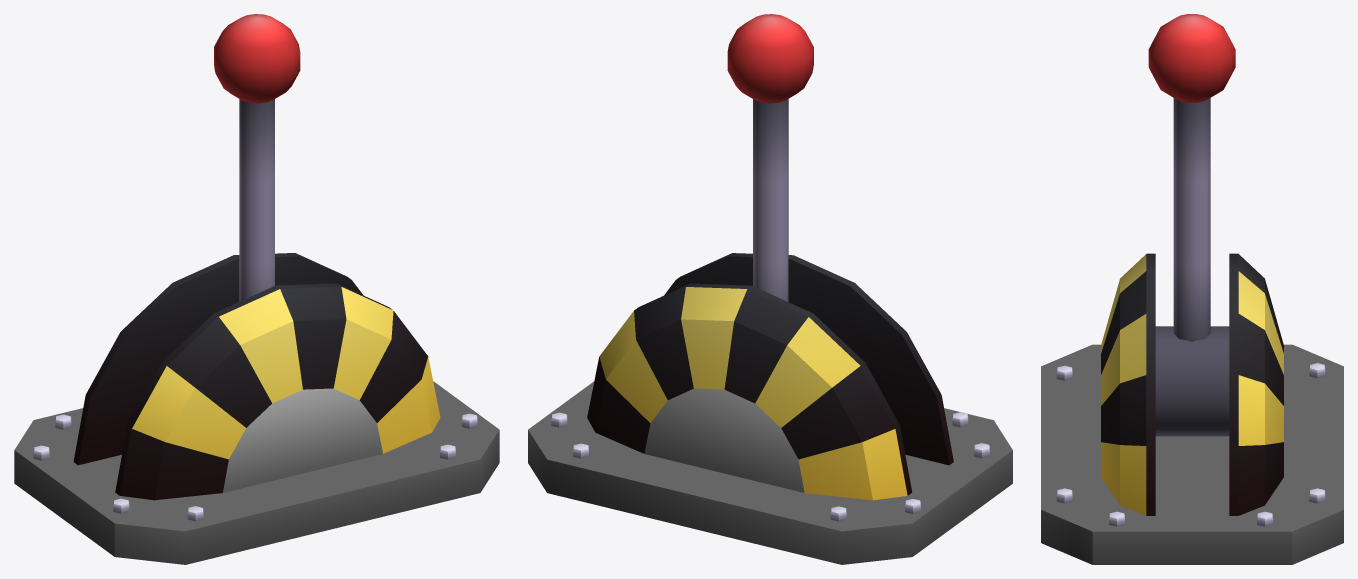
The model's file is palanca level 2.glb.
The picture shows the model from 3 angles, left to right: view 1: azimuth 30°, elevation 25°; view 2: azimuth 150°, elevation 25°; view 3: azimuth 270°, elevation 25°; orthographic projection.
Parts seen in each view (by area): view 1: Sphere001, Cylinder009_Material #30_0; view 2: Sphere001, Cylinder009_Material #30_0; view 3: Sphere001, Cylinder009_Material #30_0.
Boxes of the visible parts, bbox=[...] form: Sphere001: bbox=[14, 253, 499, 564]; Cylinder009_Material #30_0: bbox=[214, 14, 300, 301]; Sphere001: bbox=[528, 253, 1012, 564]; Cylinder009_Material #30_0: bbox=[727, 14, 813, 301]; Sphere001: bbox=[1041, 253, 1343, 564]; Cylinder009_Material #30_0: bbox=[1148, 14, 1235, 436].
Size of the model in its own units: 1.2 by 1.36 by 0.821.
Materials: 10 (10 with a texture image).
